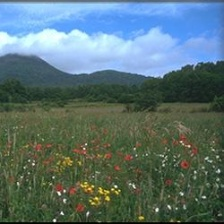neutral: (1, 7, 223, 221)
